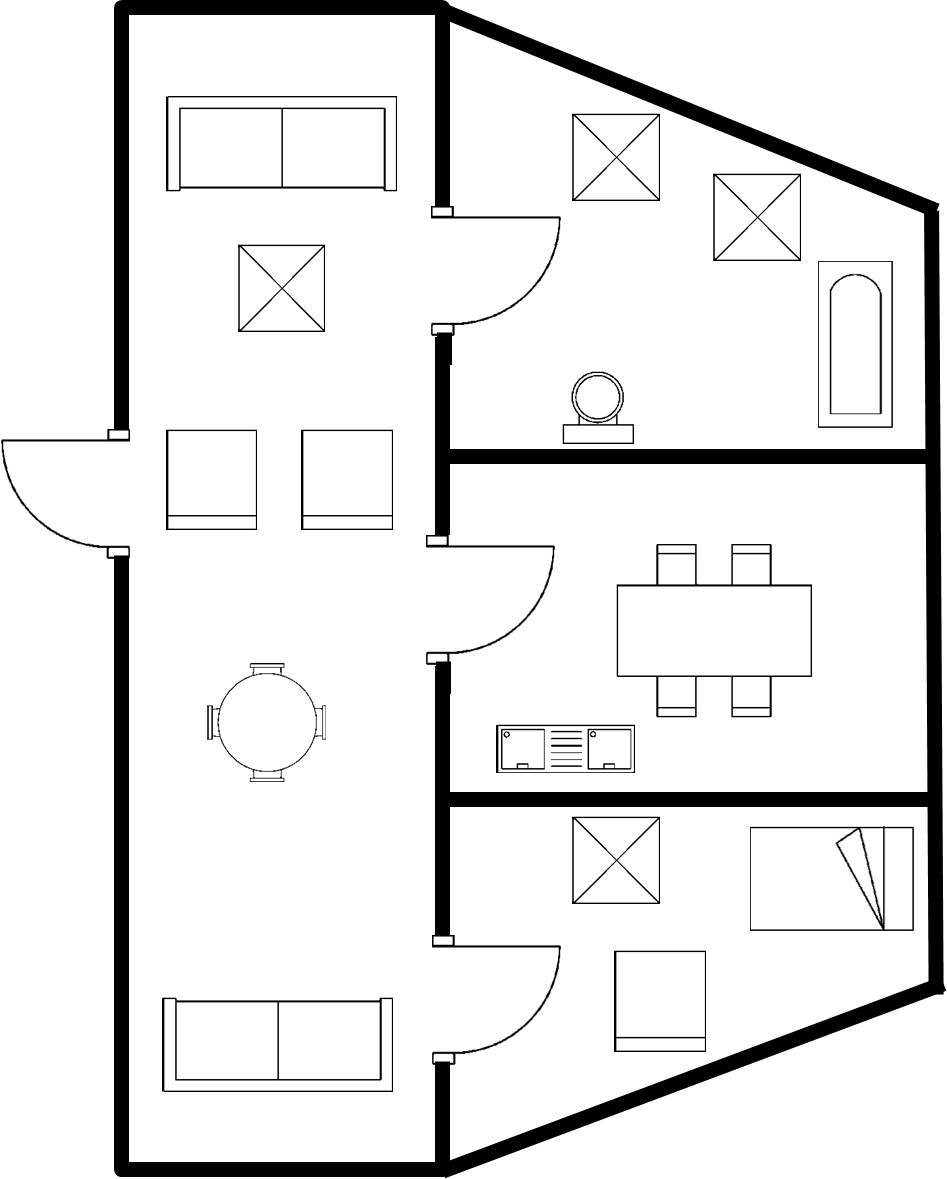bed: (744, 817, 921, 940)
coffee_table: (560, 809, 676, 911), (222, 237, 335, 340), (704, 166, 808, 272), (563, 105, 671, 207)
dining_table: (608, 539, 824, 729)
large_sink: (550, 364, 646, 450)
large_sofa: (154, 988, 402, 1102), (159, 88, 404, 203)
round_table: (195, 648, 338, 794)
small_sofa: (156, 420, 267, 539), (608, 940, 714, 1064), (290, 424, 401, 535)
tub: (807, 253, 901, 444)
twin_sink: (483, 716, 641, 781)
